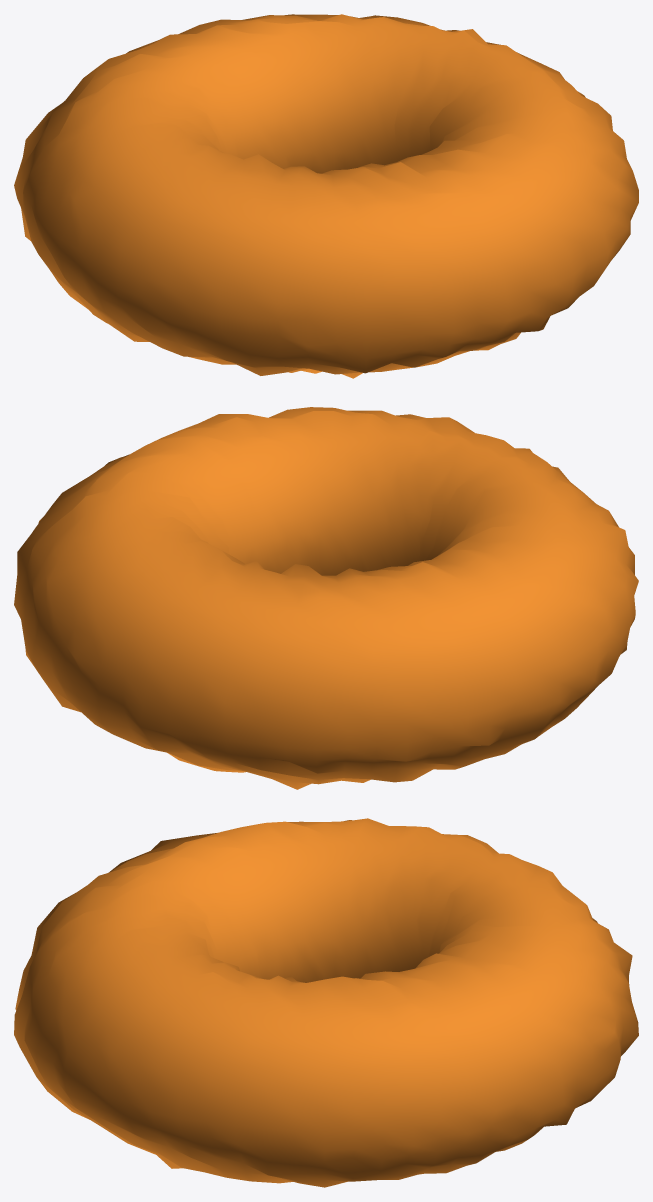
File: cereal_orange.obj
3 renders of one model, top to bottom at view 1: azimuth 30°, elevation 25°; view 2: azimuth 150°, elevation 25°; view 3: azimuth 270°, elevation 25°, orthographic.
Bounding box in the file's own units: 1.54 × 0.5699 × 1.55.
